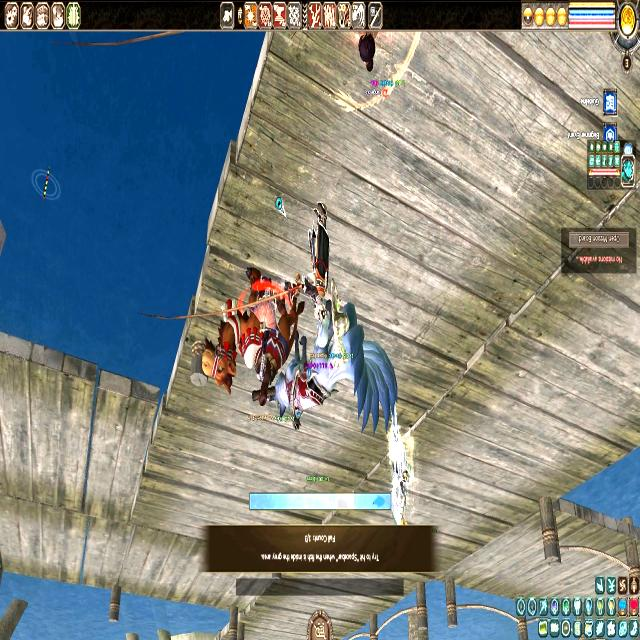fishes: (372, 494, 385, 510)
